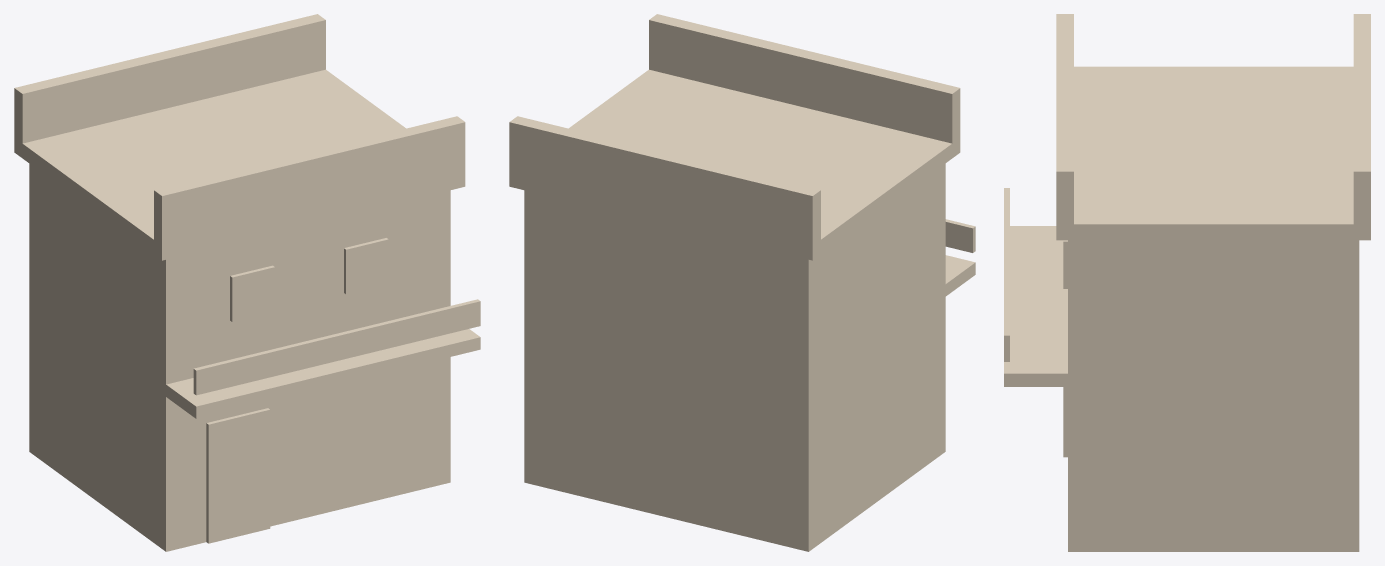
File: insula.gltf
The picture shows the model from 3 angles, left to right: view 1: azimuth 30°, elevation 25°; view 2: azimuth 150°, elevation 25°; view 3: azimuth 270°, elevation 25°; orthographic projection. The views are drawn at different scales.
Parts seen in each view (by area): view 1: insula_ground, COL_insula, insula_upper, insula_roof, insula_parapet_n, insula_parapet_s, insula_rail, insula_door, insula_balcony, insula_win_a, insula_win_b; view 2: COL_insula, insula_ground, insula_upper, insula_roof, insula_parapet_s, insula_parapet_n, insula_rail, insula_balcony; view 3: insula_roof, insula_ground, insula_upper, COL_insula, insula_balcony, insula_parapet_s, insula_parapet_n, insula_rail.
Boxes of the visible parts, <box> form: insula_ground: <box>29,293,450,551</box>; COL_insula: <box>29,172,450,551</box>; insula_upper: <box>29,164,450,392</box>; insula_roof: <box>14,69,465,260</box>; insula_parapet_n: <box>14,14,325,143</box>; insula_parapet_s: <box>154,116,465,245</box>; insula_rail: <box>193,299,480,395</box>; insula_door: <box>206,408,270,543</box>; insula_balcony: <box>163,329,480,418</box>; insula_win_a: <box>344,238,388,294</box>; insula_win_b: <box>230,265,274,321</box>; COL_insula: <box>524,164,945,551</box>; insula_ground: <box>524,293,945,551</box>; insula_upper: <box>524,163,945,392</box>; insula_roof: <box>509,69,960,260</box>; insula_parapet_s: <box>649,14,960,143</box>; insula_parapet_n: <box>509,116,820,245</box>; insula_rail: <box>945,219,975,252</box>; insula_balcony: <box>945,255,975,296</box>; insula_roof: <box>1056,66,1370,240</box>; insula_ground: <box>1068,383,1359,551</box>; insula_upper: <box>1068,240,1359,382</box>; COL_insula: <box>1068,240,1359,551</box>; insula_balcony: <box>1004,226,1073,386</box>; insula_parapet_s: <box>1056,14,1073,224</box>; insula_parapet_n: <box>1353,14,1370,224</box>; insula_rail: <box>1004,188,1009,361</box>.
Size of the model in its own units: 6.4 by 7.3 by 6.3.
